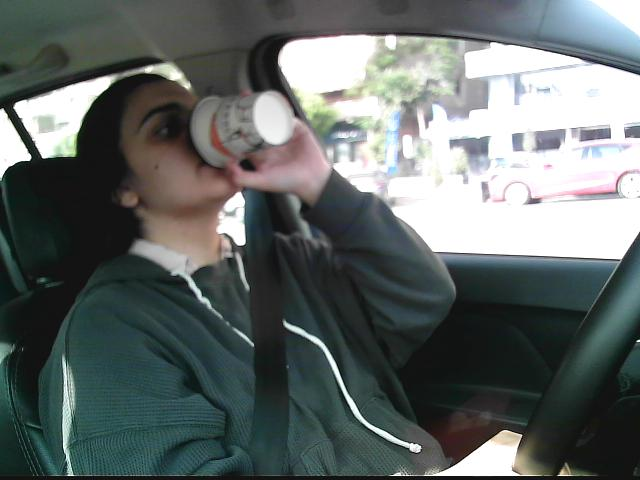Drinking: (184, 87, 298, 173)
